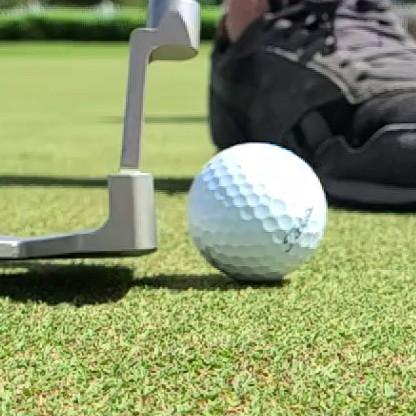golfball: (187, 144, 327, 280)
